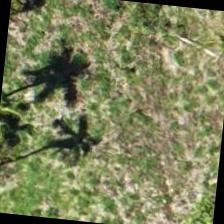Kelapa_Sawit: (0, 108, 59, 205), (181, 7, 223, 77)
